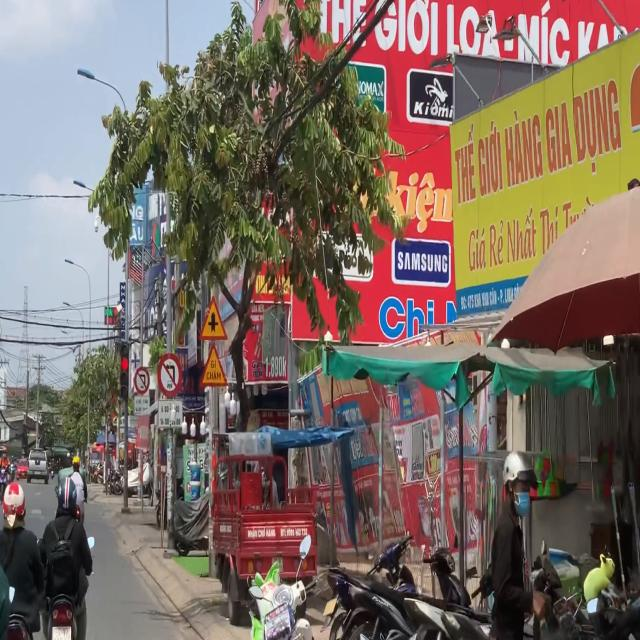Cam re trai: (158, 353, 182, 398), (134, 368, 149, 395)
Giao voi duong khong uu tien: (197, 293, 229, 347)
Nguy hiem: (198, 341, 230, 394)
